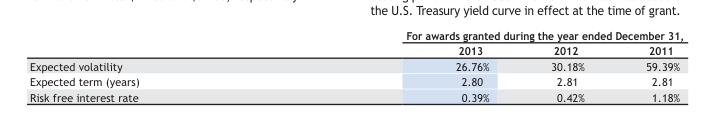table: (29, 28, 683, 102)
table column: (272, 28, 519, 102), (29, 28, 272, 102), (519, 28, 614, 102), (614, 28, 683, 102)
table column header: (29, 28, 683, 58)
table row: (29, 42, 683, 58), (29, 58, 683, 73), (29, 73, 683, 88), (29, 28, 683, 42), (29, 88, 683, 102)
table spanning cell: (272, 28, 683, 42)
